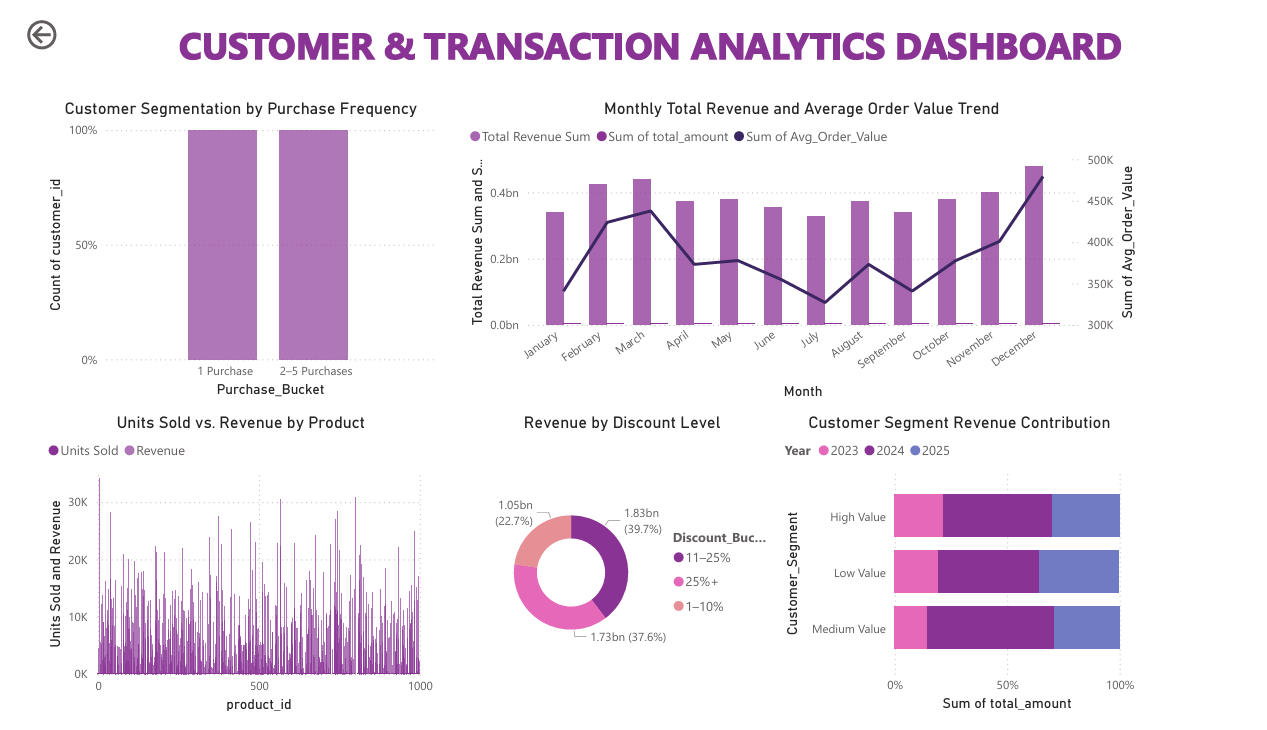

This screenshot's page, from the dashboard's own definition file:
{"tool":"powerbi","page":{"name":"Page 4","canvas":[1280,720],"ordinal":3},"visuals":[{"type":"textbox","box":[9.6,0,1270.8,70],"z":0},{"type":"hundredPercentStackedColumnChart","title":"Customer Segmentation by Purchase Frequency","fields":{"Category":["transactions.Purchase_Bucket"],"Y":["Count(transactions.customer_id)"]},"box":[20.8,84.7,406.9,312.5],"z":1000},{"type":"actionButton","box":[0,0,100,40],"z":2000},{"type":"clusteredColumnChart","title":"Units Sold vs. Revenue by Product","fields":{"Y":["Sum(transactions.quantity)","Sum(transactions.total_amount)"],"Category":["transactions.product_id"]},"box":[21,408,407,312],"z":3000},{"type":"lineClusteredColumnComboChart","title":"Monthly Total Revenue and Average Order Value Trend","fields":{"Category":["transactions.purchase_date.Variation.Date Hierarchy.Month"],"Y":["Sum(transactions.Total_Revenue)","Sum(transactions.total_amount)"],"Y2":["Sum(transactions.Avg_Order_Value)"]},"box":[454.2,84.7,693.1,313.9],"z":4000},{"type":"donutChart","title":"Revenue by Discount Level","fields":{"Category":["transactions.Discount_Bucket"],"Y":["Sum(transactions.Total_Revenue)"]},"box":[454.2,408.3,323.6,311.1],"z":5000},{"type":"hundredPercentStackedBarChart","title":"Customer Segment Revenue Contribution","fields":{"Category":["transactions.Customer_Segment"],"Y":["Sum(transactions.total_amount)"],"Series":["transactions.purchase_date.Variation.Date Hierarchy.Year"]},"box":[778,408,369,311],"z":6000}]}

Visuals, with their boxes in screenshot pixels (x1, y1, x2, y2), scaled from the page's 1280x720 canvas onto the 1267x730 screenshot:
textbox: region(10, 0, 1266, 71)
"Customer Segmentation by Purchase Frequency" hundredPercentStackedColumnChart: region(21, 86, 423, 403)
actionButton: region(0, 0, 99, 41)
"Units Sold vs. Revenue by Product" clusteredColumnChart: region(21, 414, 424, 729)
"Monthly Total Revenue and Average Order Value Trend" lineClusteredColumnComboChart: region(450, 86, 1136, 404)
"Revenue by Discount Level" donutChart: region(450, 414, 770, 729)
"Customer Segment Revenue Contribution" hundredPercentStackedBarChart: region(770, 414, 1135, 729)
